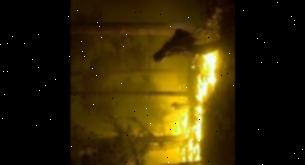fire: (180, 52, 224, 165)
